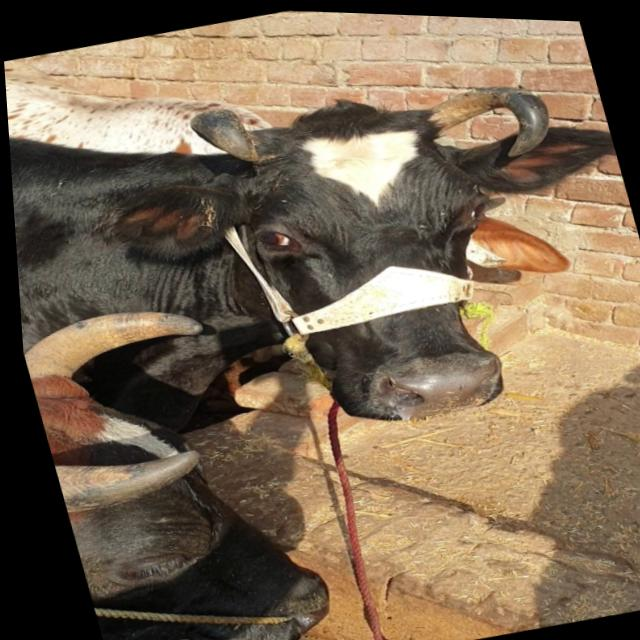cowFace: (198, 76, 601, 462), (15, 295, 349, 640)
